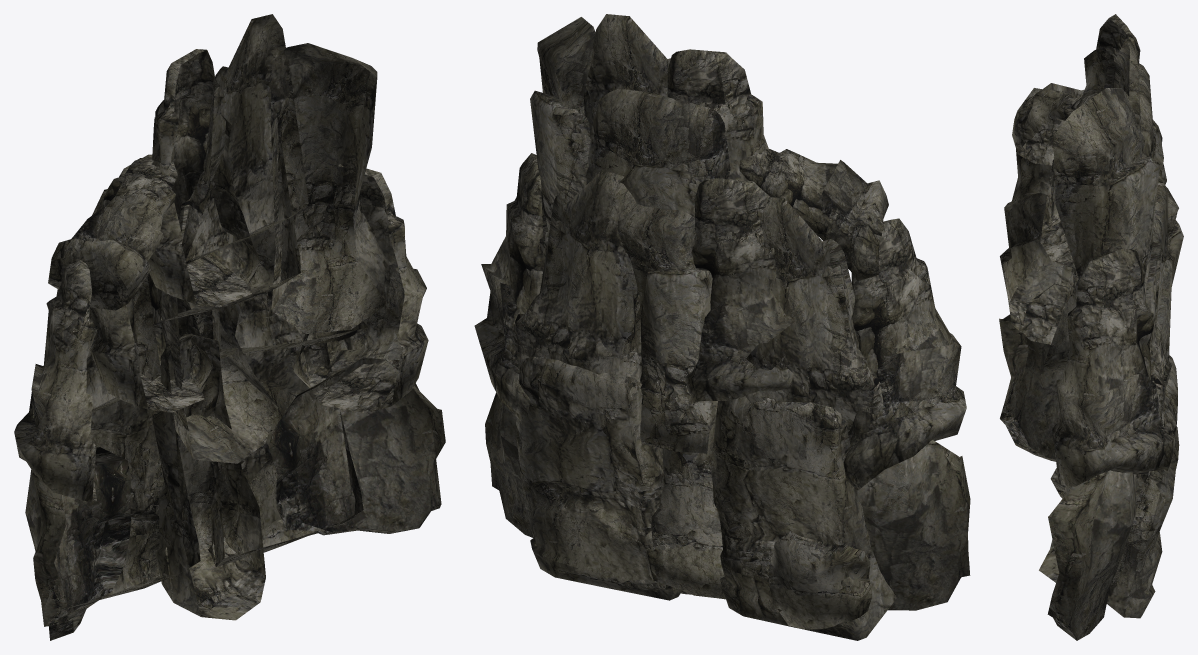
File: rock_detail_C.FBX
3 renders of one model, left to right at view 1: azimuth 30°, elevation 25°; view 2: azimuth 150°, elevation 25°; view 3: azimuth 270°, elevation 25°, orthographic. The views are drawn at different scales.
Parts seen in each view (by area): view 1: rock_detail_C; view 2: rock_detail_C; view 3: rock_detail_C.
Part boxes in pixels (<box>): rock_detail_C: <box>14,14,445,640</box>; rock_detail_C: <box>474,14,970,640</box>; rock_detail_C: <box>999,14,1183,640</box>.
Size of the model in its own units: 15.64 by 19.11 by 5.69.
